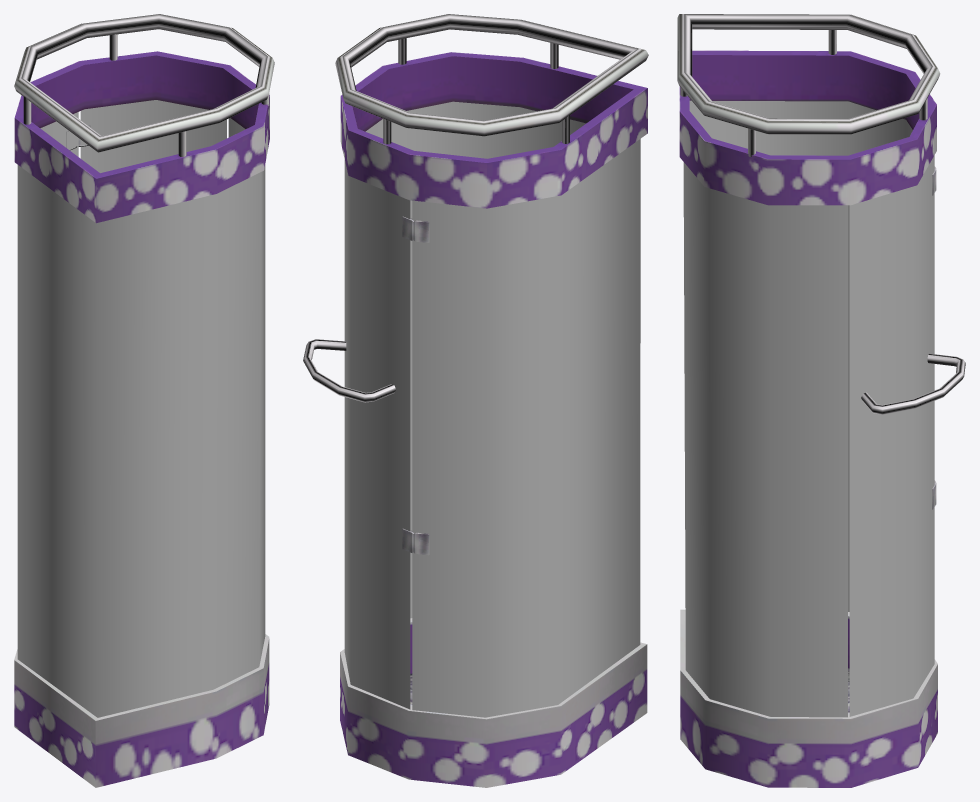
File: furni_0200526_03.FBX
3 views of the same model, side by side, from view 1: azimuth 30°, elevation 25°; view 2: azimuth 150°, elevation 25°; view 3: azimuth 270°, elevation 25° (orthographic). The views are drawn at different scales.
Parts seen in each view (by area): view 1: furni_0200526_03; view 2: furni_0200526_03; view 3: furni_0200526_03.
Boxes of the visible parts, box(x1,y1,x2,y2) form: furni_0200526_03: box(14, 14, 274, 787); furni_0200526_03: box(303, 14, 648, 787); furni_0200526_03: box(677, 14, 965, 787).
Size of the model in its own units: 76.92 by 203 by 79.46.
